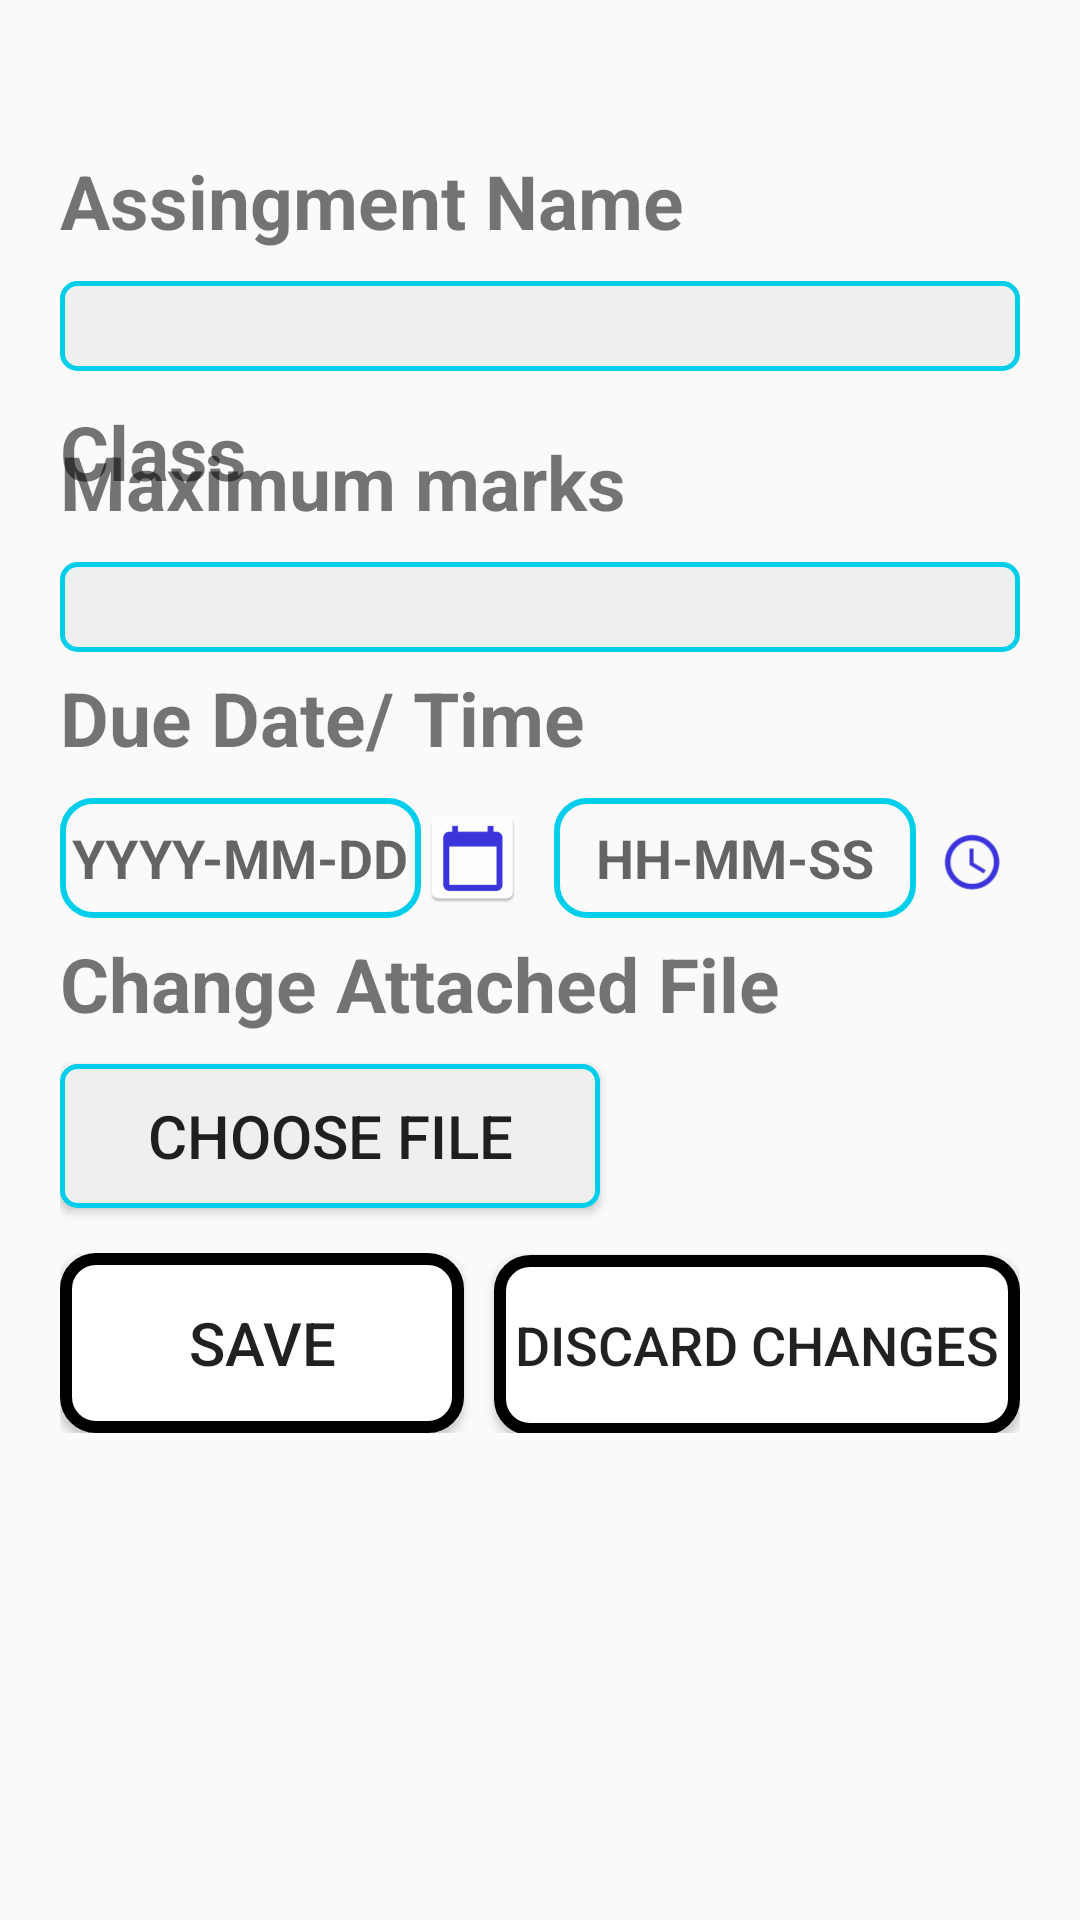

Screen size 1080 × 1920. Icon name, then its center in pixels as [x,y]:
datepicker: [473,863]
